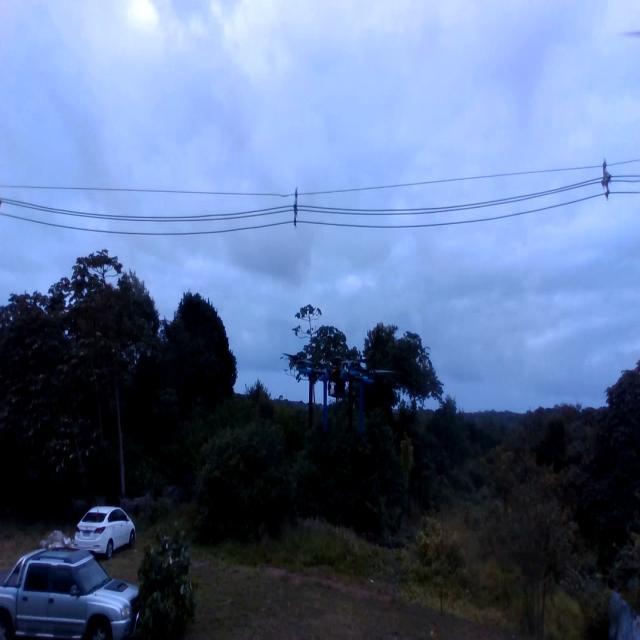-uav-: (293, 342, 389, 449)
